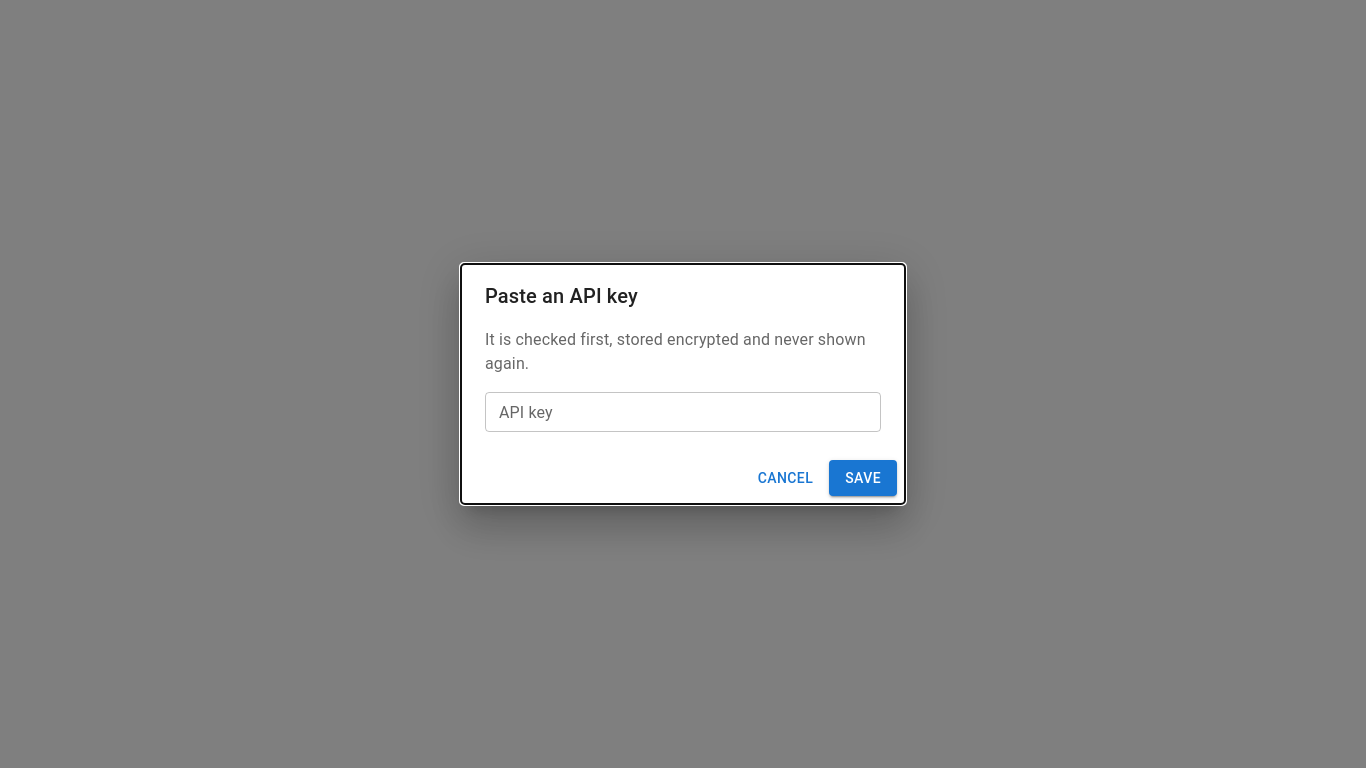
flow dialogs › a failed save shows the provider's message and stays open
Type "bad" into the password field labelled "API key" at (683, 412), box x1=485 y1=392 x2=881 y2=432
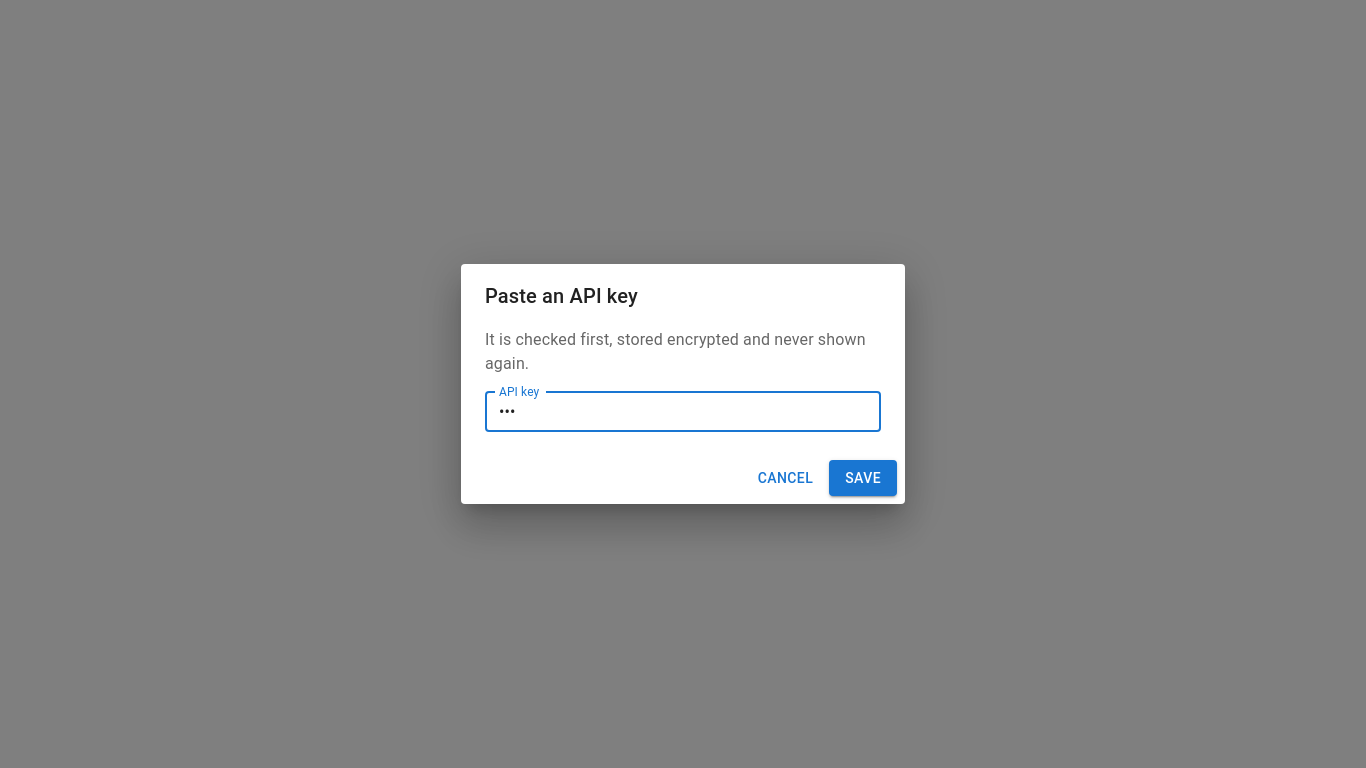
Click the button "Save" at (863, 478), box x1=829 y1=460 x2=897 y2=496
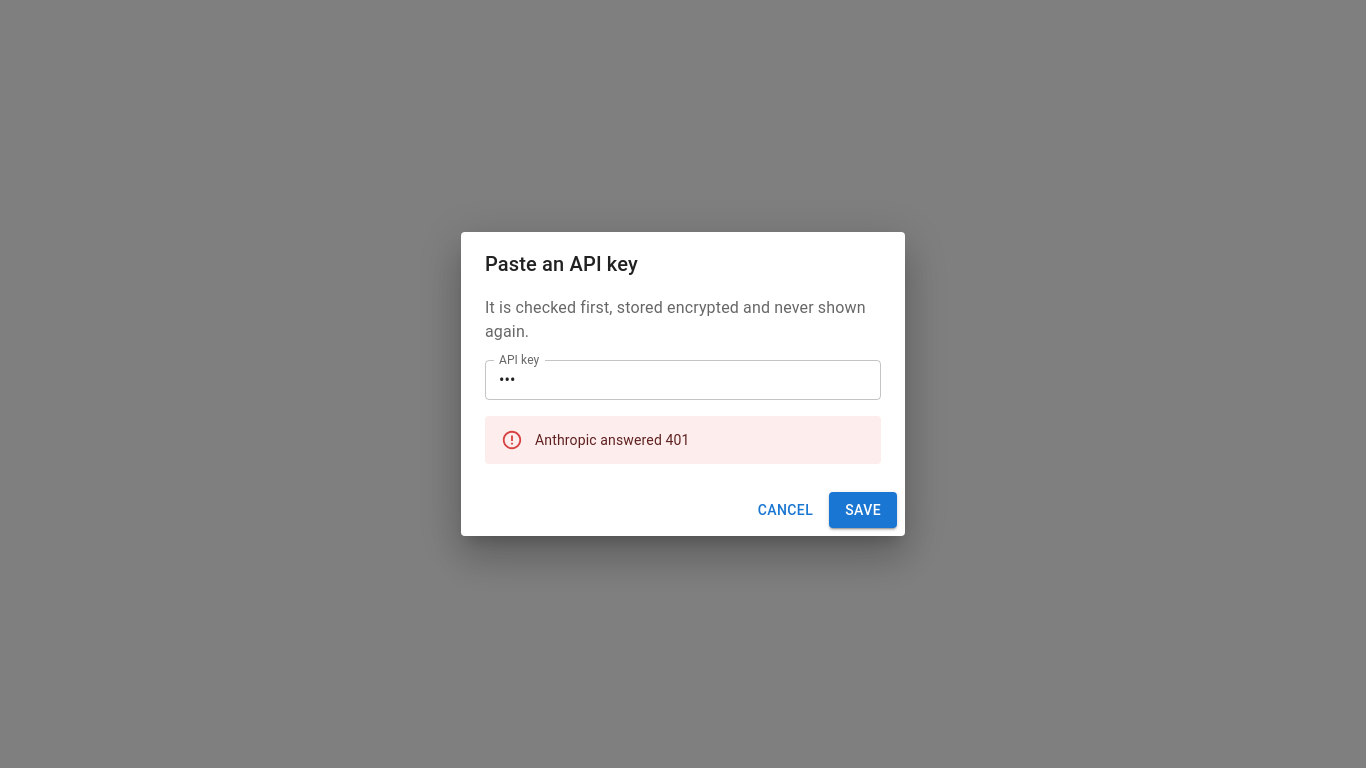
Now the text "Anthropic answered 401" is shown, box x1=535 y1=432 x2=690 y2=448
